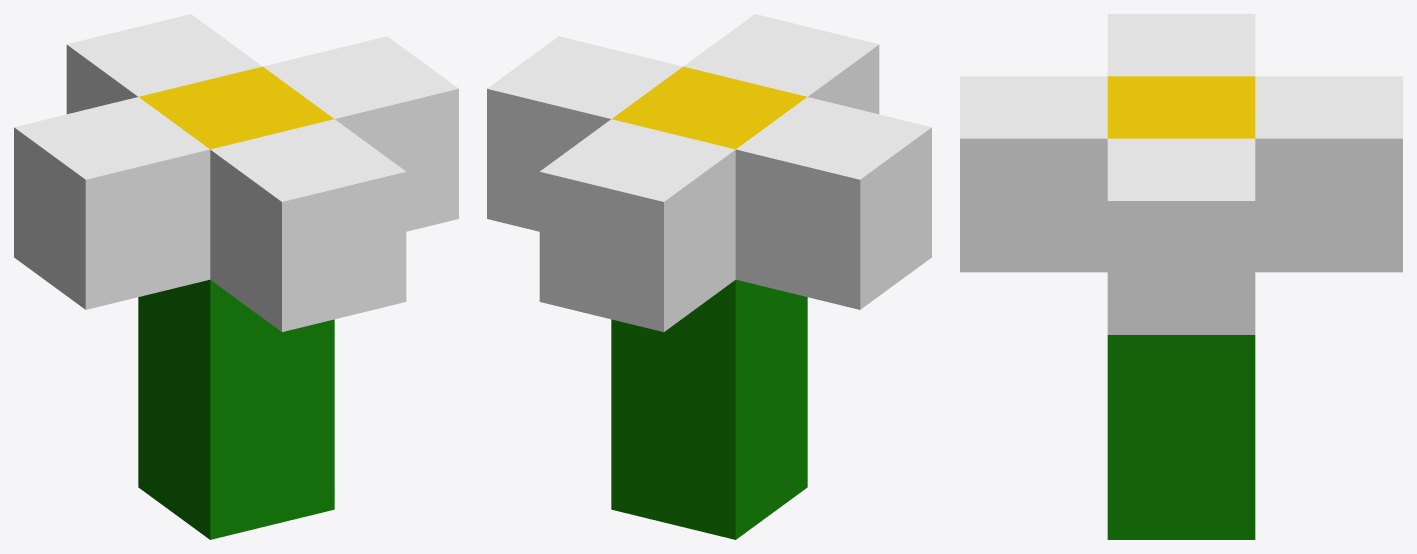
File: (4) White Flowers (Stage 4).obj
The picture shows the model from 3 angles, left to right: view 1: azimuth 30°, elevation 25°; view 2: azimuth 150°, elevation 25°; view 3: azimuth 270°, elevation 25°; orthographic projection. The views are drawn at different scales.
Bounding box in the file's own units: 0.3 × 0.3 × 0.3.
1 material, 1 textured.
